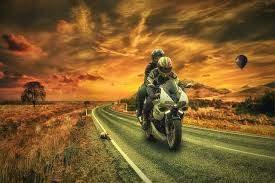motorcycle: (136, 75, 186, 150)
